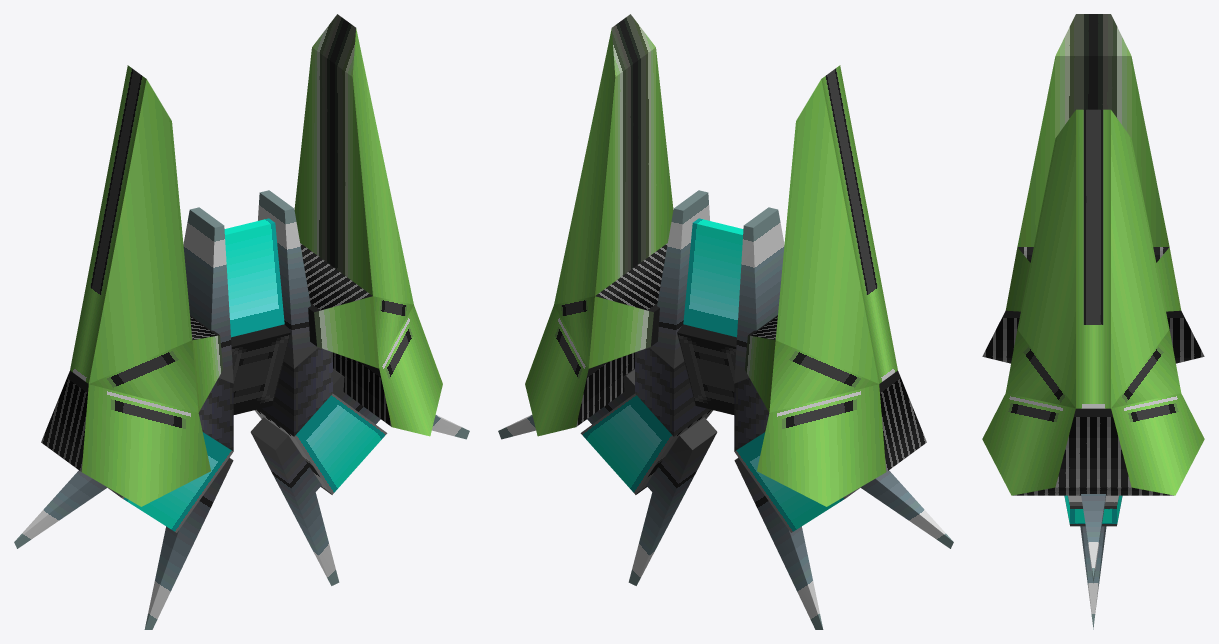
The model's file is blueLaser.glb.
The picture shows the model from 3 angles, left to right: view 1: azimuth 30°, elevation 25°; view 2: azimuth 150°, elevation 25°; view 3: azimuth 270°, elevation 25°; orthographic projection. The views are drawn at different scales.
Visible parts, largest first — view 1: Mesh_0205; view 2: Mesh_0205; view 3: Mesh_0205.
Boxes of the visible parts, x1,y1,x2,y2 form: Mesh_0205: [14, 14, 469, 629]; Mesh_0205: [498, 14, 953, 629]; Mesh_0205: [982, 14, 1204, 629].
Bounding box in the file's own units: 6.31 × 7.43 × 2.85.
1 material, 1 textured.
